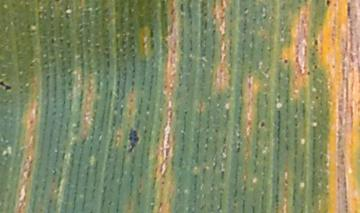tarspot: (123, 124, 143, 155), (1, 79, 15, 95), (253, 119, 271, 130), (279, 55, 292, 69), (311, 35, 321, 51), (311, 93, 325, 102), (310, 62, 322, 72), (322, 1, 332, 10)
